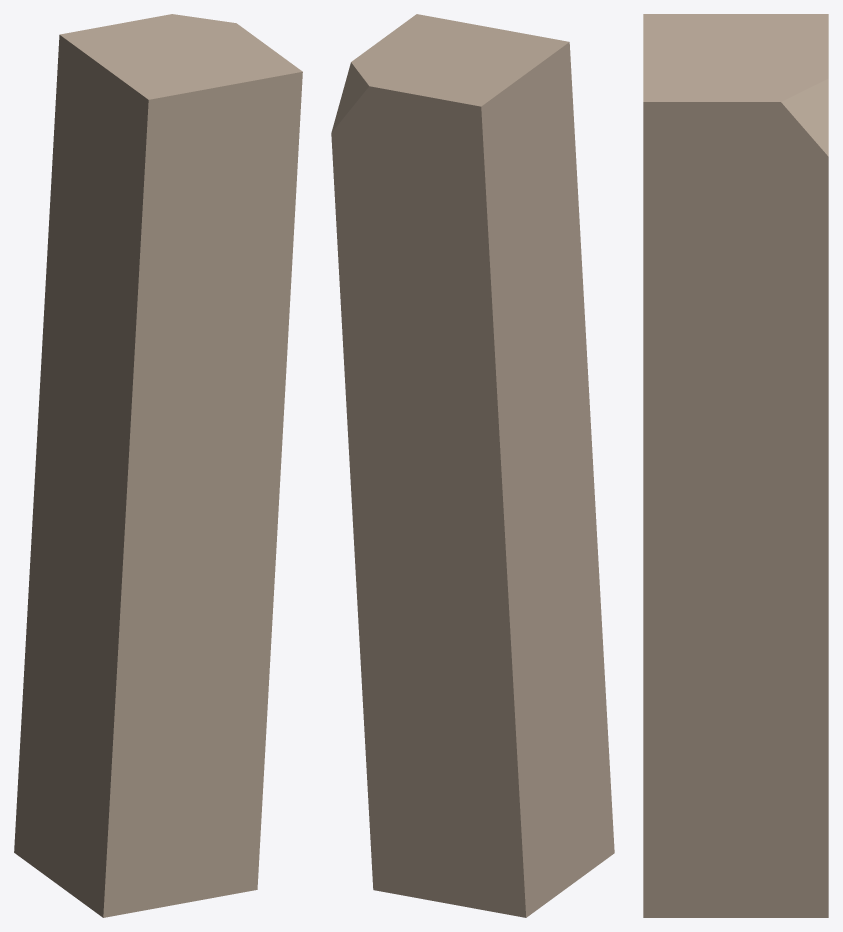
The model's file is Prop_Fence_Post_1.gltf.
The picture shows the model from 3 angles, left to right: view 1: azimuth 30°, elevation 25°; view 2: azimuth 150°, elevation 25°; view 3: azimuth 270°, elevation 25°; orthographic projection. The views are drawn at different scales.
Visible parts, largest first — view 1: object1; view 2: object1; view 3: object1.
Part boxes in pixels (<box>): object1: <box>14,14,302,917</box>; object1: <box>331,14,614,917</box>; object1: <box>643,14,828,917</box>.
Size of the model in its own units: 0.1938 by 0.7575 by 0.15.
